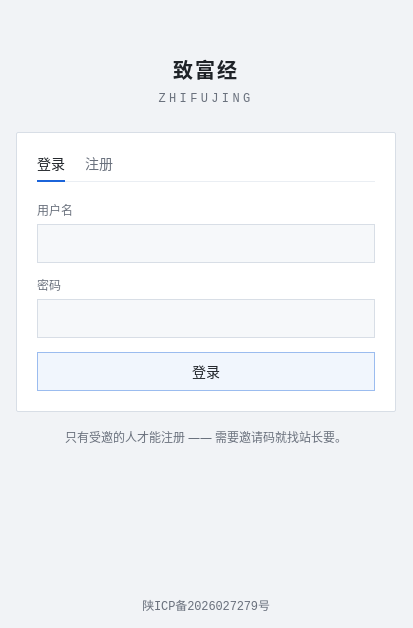
Test case: P1-E 登录前的注销等待结果 › timeout 时明确拒绝登录，不静默建立新会话
Type "u1" into the field labelled "用户名" at [206, 244], box [37, 224, 375, 263]
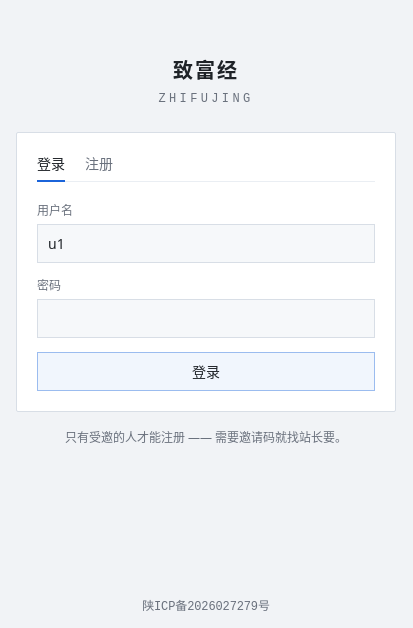
Type "Test12345!" into the password field labelled "密码" at [206, 319], box [37, 299, 375, 338]
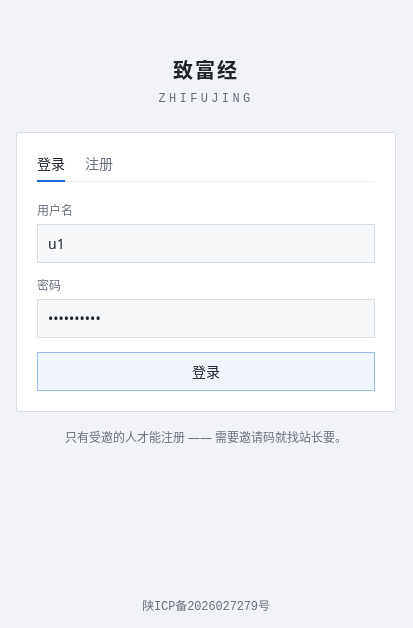
Click the submit button at [206, 372], box [37, 352, 375, 391]
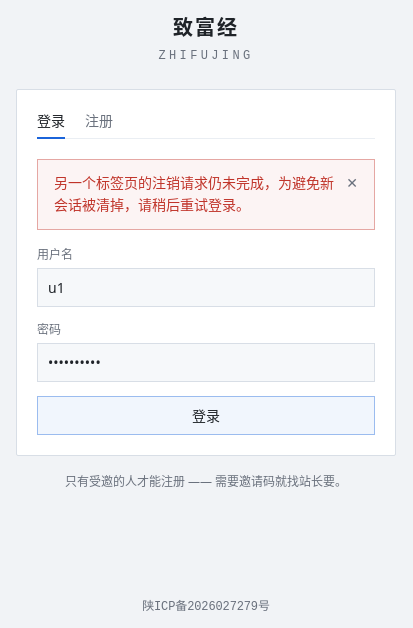
Expected: the text "另一个标签页的注销请求仍未完成，为避免新会话被清掉，请稍后重试登录。" is shown, [54, 172, 336, 217]
